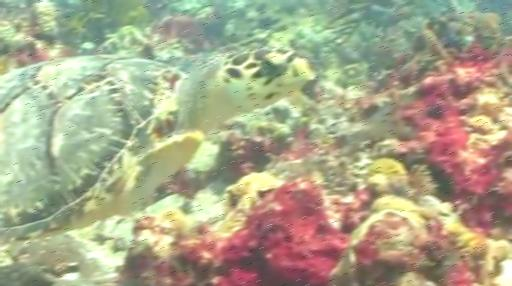Fish: (0, 48, 315, 238)
